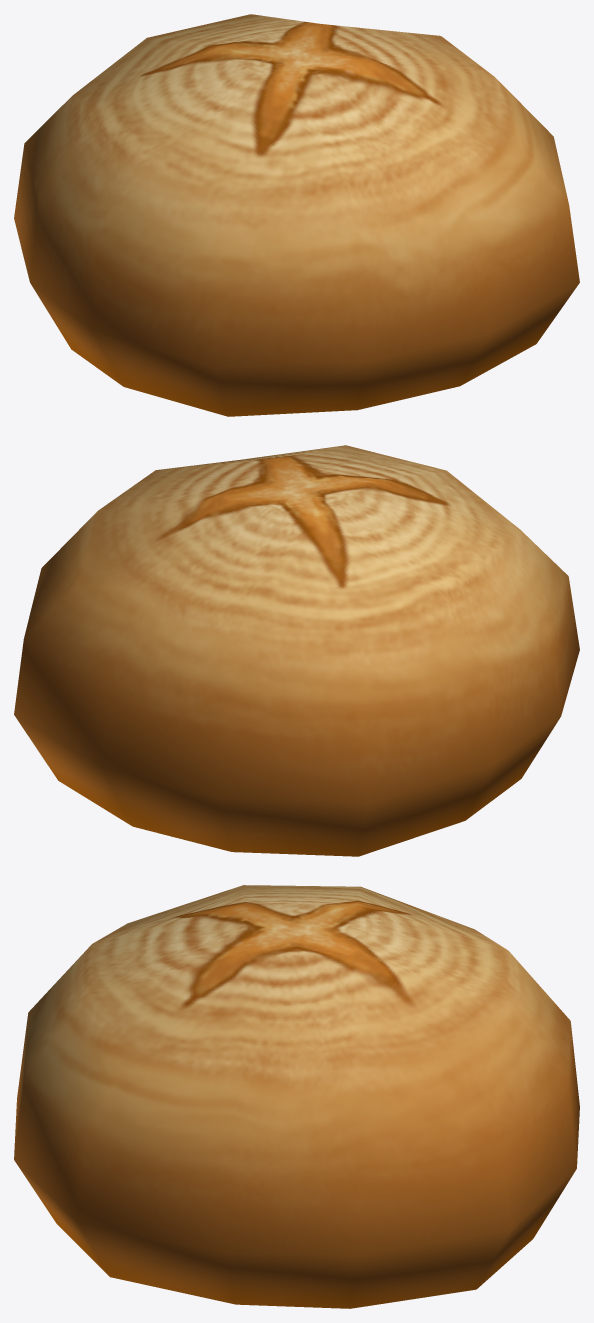
The model's file is Sourdough.fbx.
3 renders of one model, top to bottom at view 1: azimuth 30°, elevation 25°; view 2: azimuth 150°, elevation 25°; view 3: azimuth 270°, elevation 25°, orthographic. The views are drawn at different scales.
Parts seen in each view (by area): view 1: Sourdough; view 2: Sourdough; view 3: Sourdough.
Boxes of the visible parts, box(x1,y1,x2,y2) form: Sourdough: box(14, 14, 579, 416); Sourdough: box(14, 445, 579, 856); Sourdough: box(14, 885, 579, 1308).
Size of the model in its own units: 63.2 by 38.35 by 62.85.
